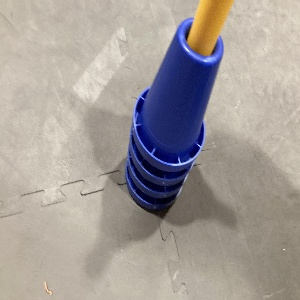Blue_4: (124, 16, 225, 212)
